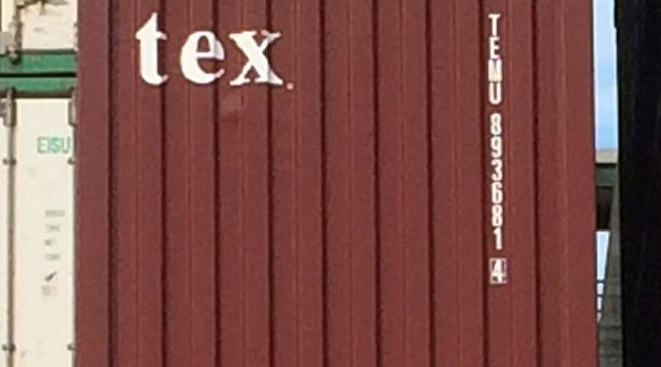container_no_door: (78, 1, 597, 367)
